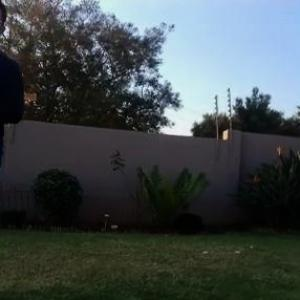follow: (0, 0, 33, 297)
